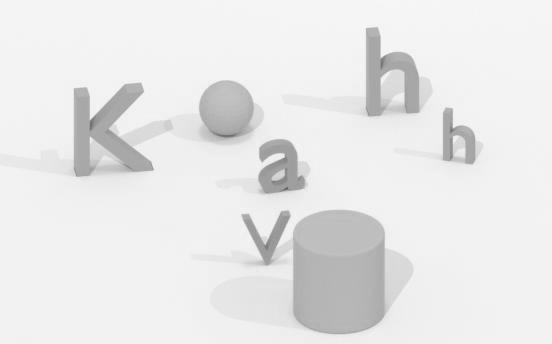chu_khoi: (73, 83, 152, 175), (365, 27, 419, 115), (242, 210, 290, 264), (258, 139, 304, 192), (443, 108, 475, 163)
hinh_cau: (199, 80, 253, 135)
tru: (293, 210, 385, 333)
